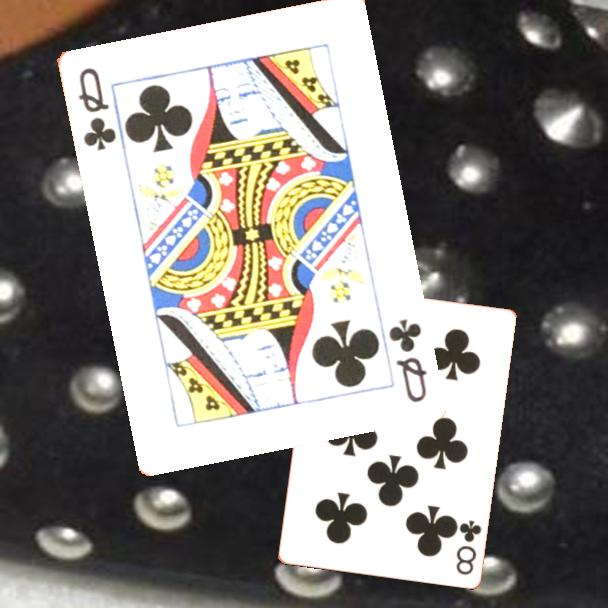c08: (452, 516, 484, 577)
c12: (384, 315, 430, 405), (74, 64, 119, 153)
